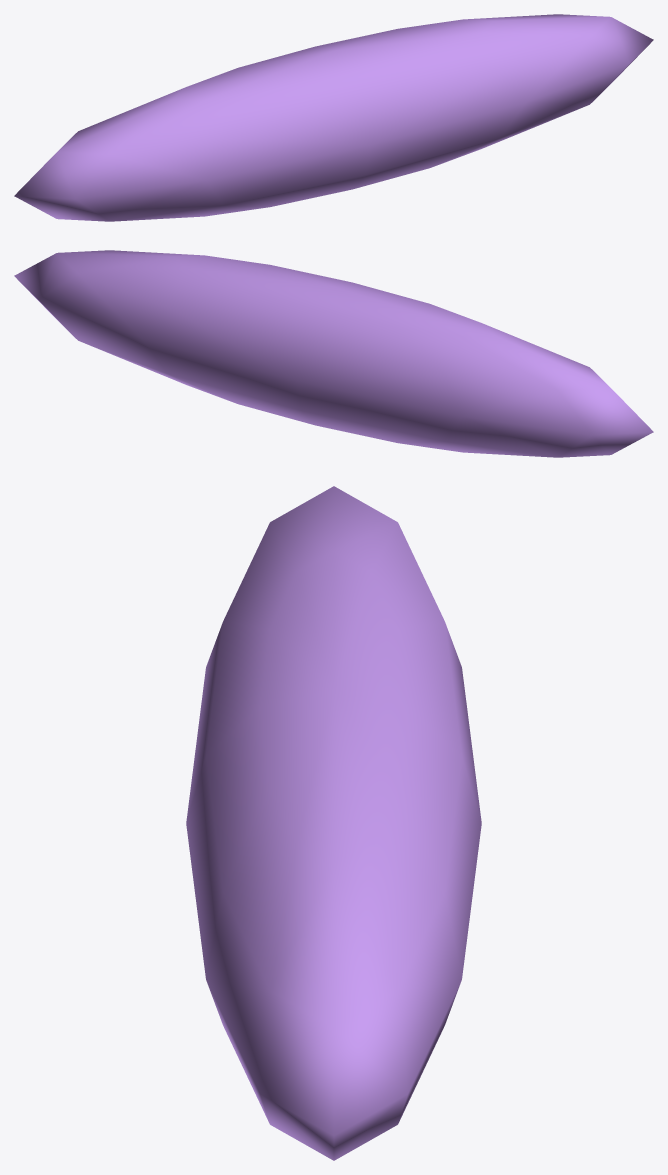
File: LaserPistol4.fbx
3 views of the same model, one above another, from view 1: azimuth 30°, elevation 25°; view 2: azimuth 150°, elevation 25°; view 3: azimuth 270°, elevation 25° (orthographic). The views are drawn at different scales.
Visible parts, largest first — view 1: laser_purple; view 2: laser_purple; view 3: laser_purple.
Boxes of the visible parts, bbox=[...] form: laser_purple: bbox=[14, 14, 653, 221]; laser_purple: bbox=[14, 250, 653, 457]; laser_purple: bbox=[186, 486, 481, 1160].
Size of the model in its own units: 0.7 by 0.14 by 0.14.
